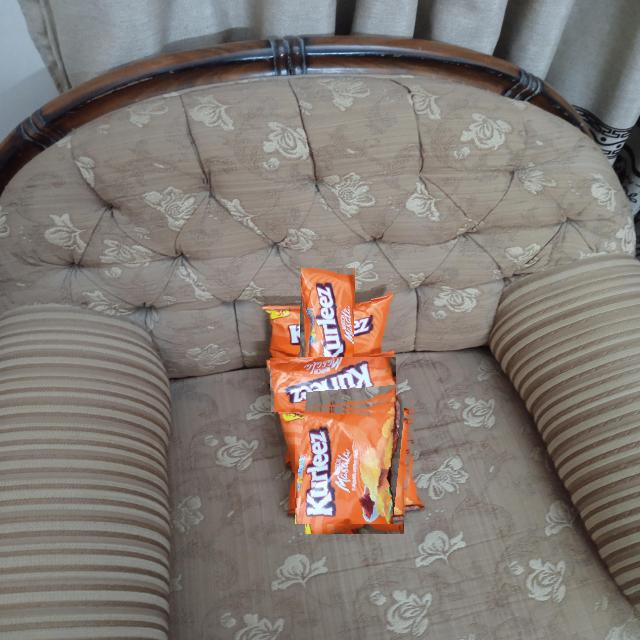Plastic: (295, 405, 415, 524), (285, 284, 371, 371), (269, 357, 396, 412)
